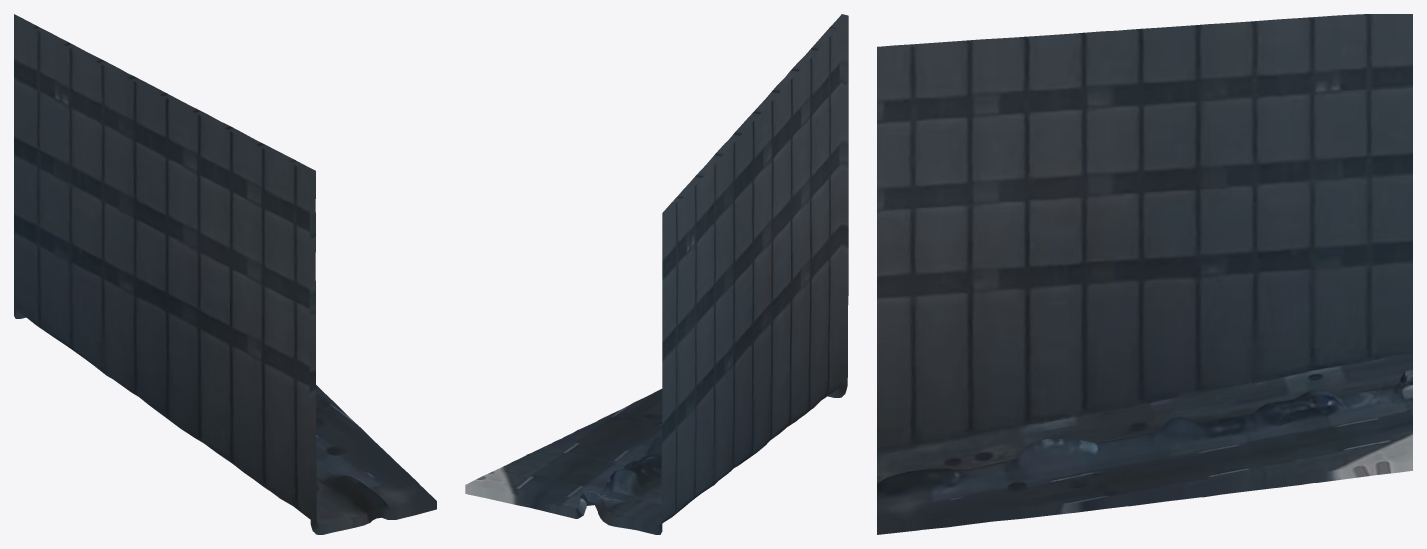
Rendered from z20-167757-405235-h0-yup-uvflip-v3-world.glb.
The picture shows the model from 3 angles, left to right: view 1: azimuth 30°, elevation 25°; view 2: azimuth 150°, elevation 25°; view 3: azimuth 270°, elevation 25°; orthographic projection. The views are drawn at different scales.
Bounding box in the file's own units: 13.84 × 26.12 × 30.32.
Materials: 1 (1 with a texture image).
